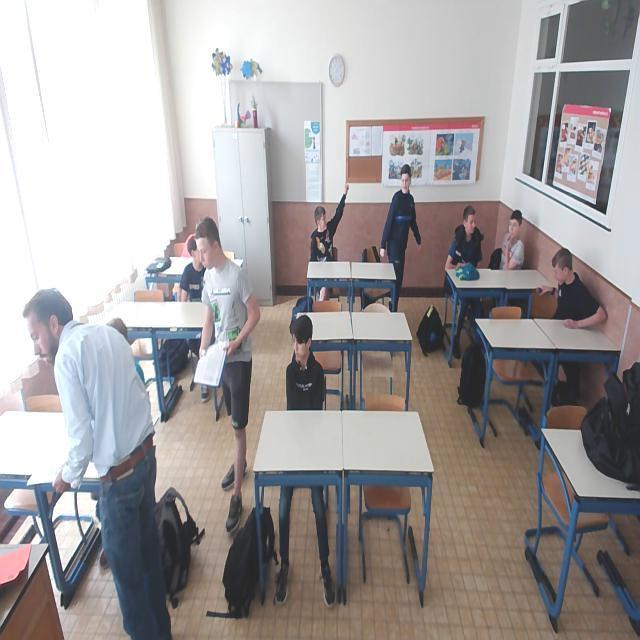Looking away: (24, 302, 60, 364), (284, 316, 322, 367), (506, 207, 528, 246), (197, 231, 216, 272), (458, 206, 478, 237)
Looking forward: (397, 167, 416, 202)
Raising hand: (307, 183, 347, 260)
Turning around: (540, 252, 610, 330)
